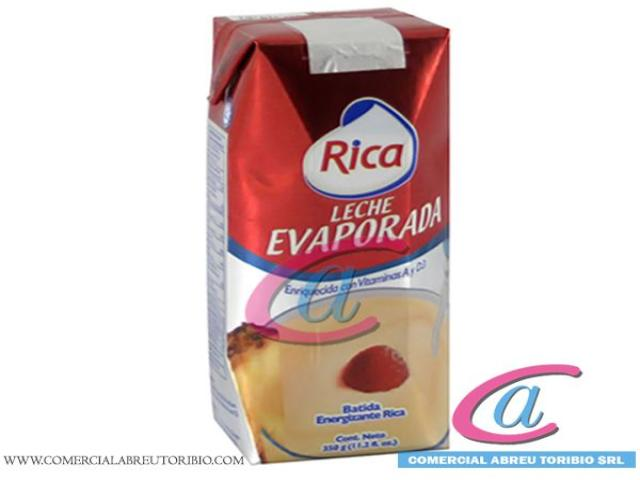drink_box: (198, 5, 458, 467)
